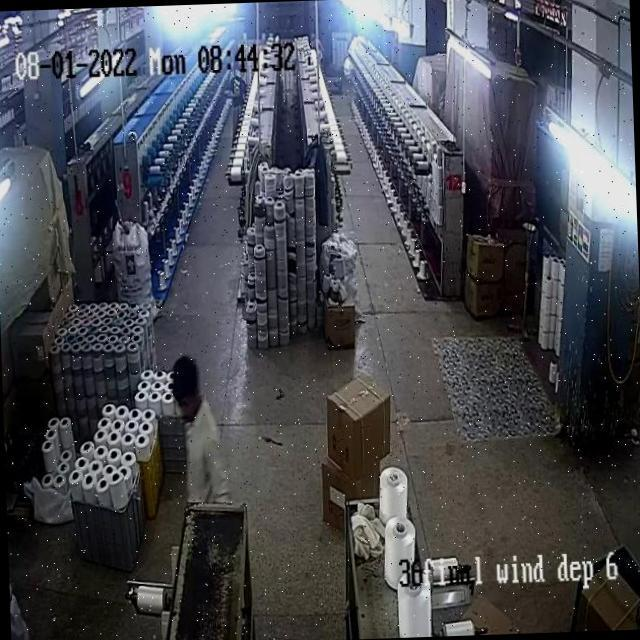person: (169, 359, 223, 488)
